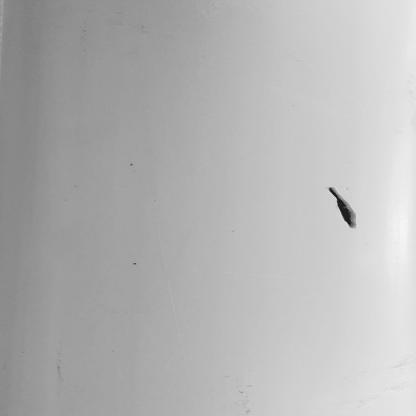kongdong: (327, 186, 360, 228)
